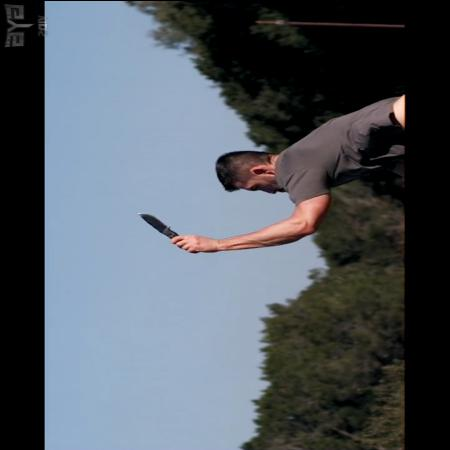long weapon: (126, 207, 208, 255)
